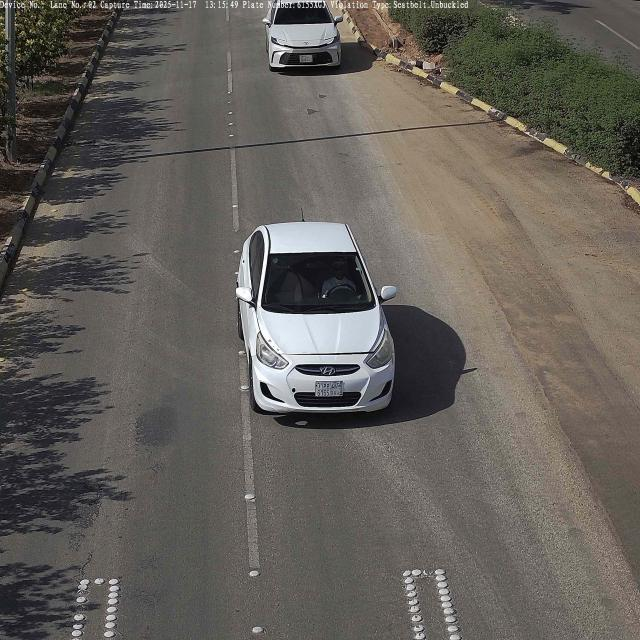person_without_seatbelt: (321, 259, 356, 299)
